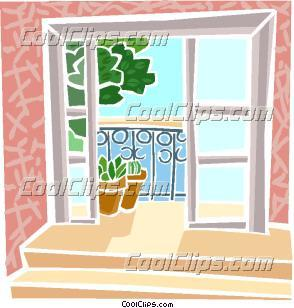pottedplant: (97, 154, 129, 216), (121, 160, 148, 209)
